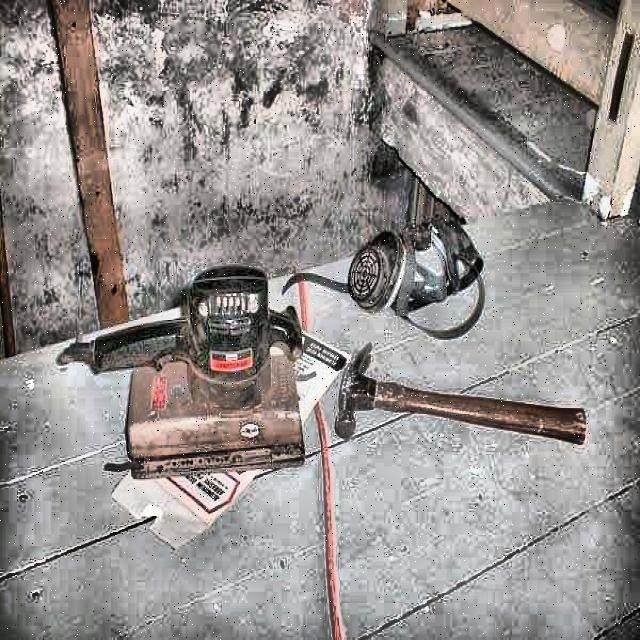hammer: (334, 345, 588, 447)
